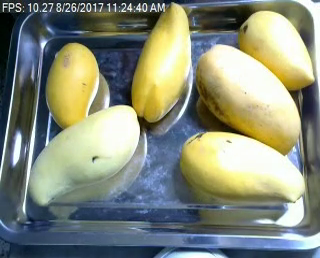Mango: (26, 103, 141, 206), (195, 42, 301, 151), (181, 132, 305, 202), (130, 3, 190, 121), (239, 10, 315, 90), (44, 42, 100, 129)
